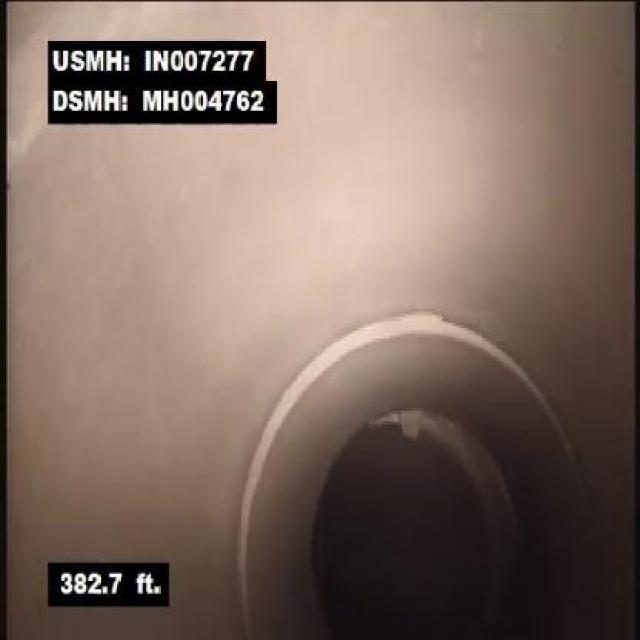Joint offset: (246, 349, 326, 491), (328, 306, 508, 360)
